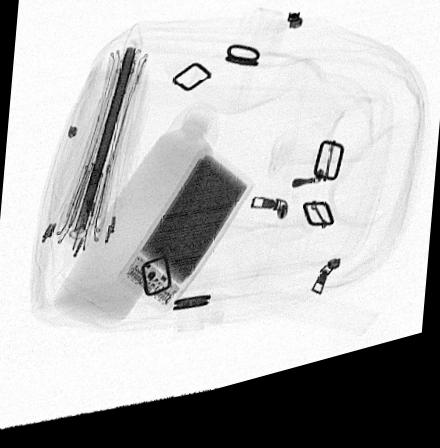Powerbank: (116, 159, 253, 323)
